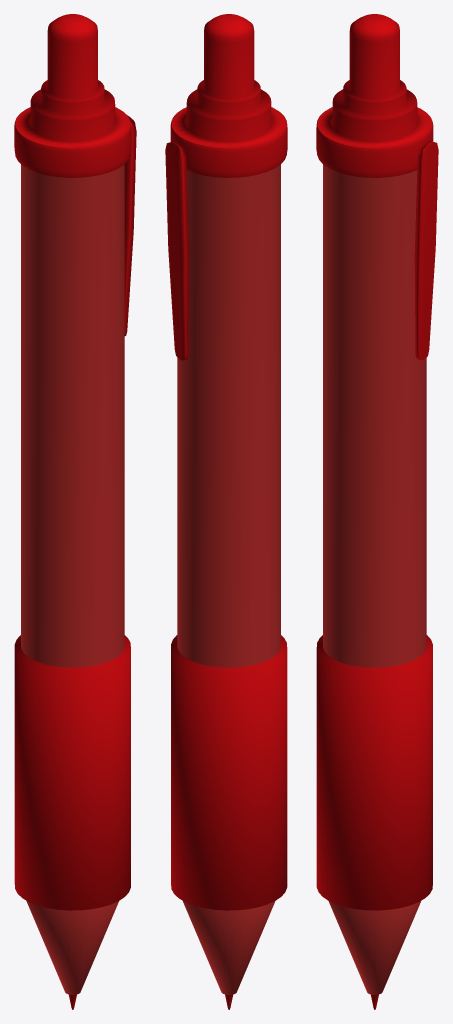
File: BOLI_UVS.fbx
3 renders of one model, left to right at view 1: azimuth 30°, elevation 25°; view 2: azimuth 210°, elevation 25°; view 3: azimuth 330°, elevation 25°, orthographic.
Visible parts, largest first — view 1: Cilindro.003 (×2), Cilindro.004, Cubo; view 2: Cilindro.003 (×2), Cilindro.004, Cubo; view 3: Cilindro.003 (×2), Cilindro.004, Cubo.
Part boxes in pixels (x1=…): Cilindro.003 (×2): x1=14, y1=14, x2=131, y2=1009; Cilindro.004: x1=14, y1=635, x2=130, y2=910; Cubo: x1=124, y1=115, x2=136, y2=335; Cilindro.003 (×2): x1=170, y1=14, x2=287, y2=1009; Cilindro.004: x1=171, y1=635, x2=287, y2=910; Cubo: x1=165, y1=141, x2=189, y2=360; Cilindro.003 (×2): x1=316, y1=14, x2=433, y2=1009; Cilindro.004: x1=316, y1=635, x2=432, y2=910; Cubo: x1=414, y1=141, x2=438, y2=360.
Bounding box in the file's own units: 32.32 × 283 × 30.34.
